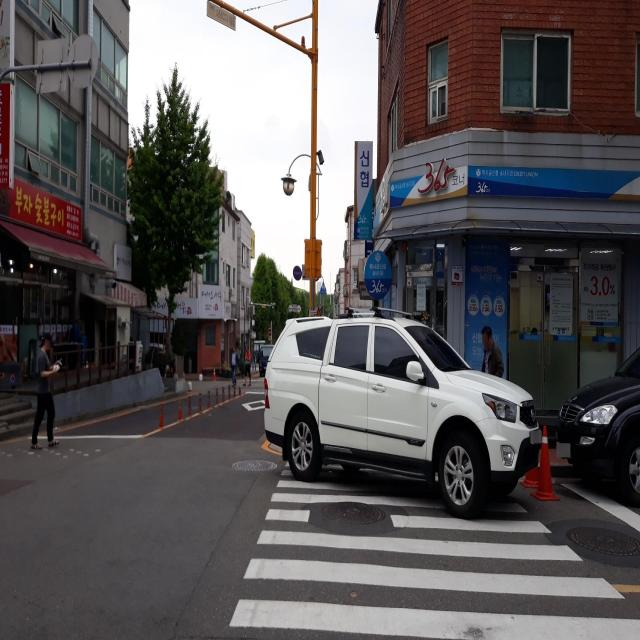횡단보도: (227, 455, 639, 640)
